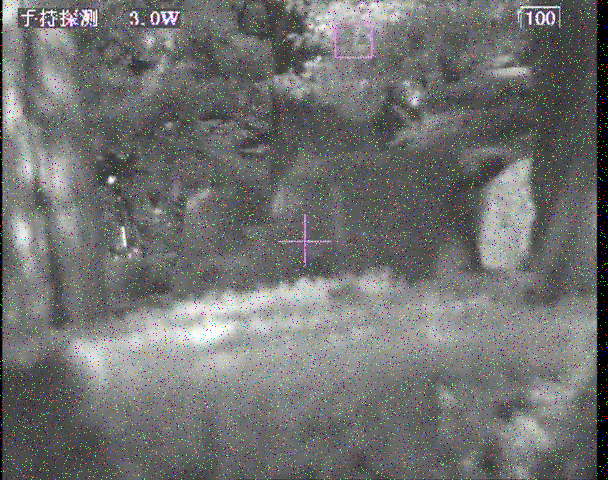my: (106, 175, 116, 185)
